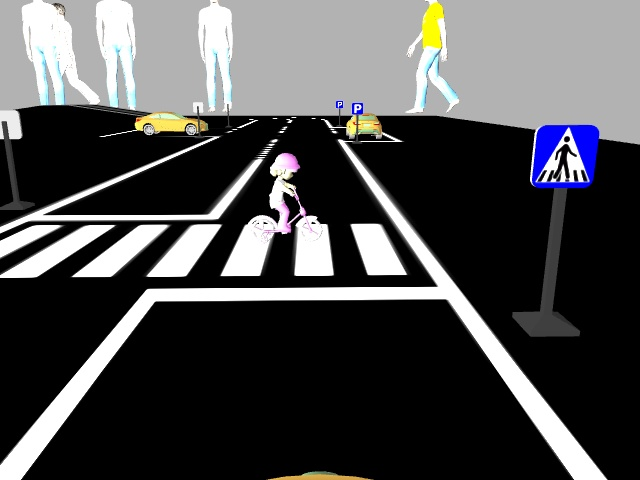Crosswalk: (525, 124, 600, 190)
Parking: (350, 101, 365, 116), (334, 99, 344, 109)
Pedestrian: (247, 150, 323, 243)
